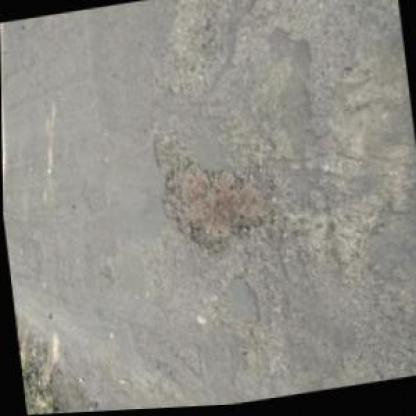pothole: (147, 114, 276, 262)
